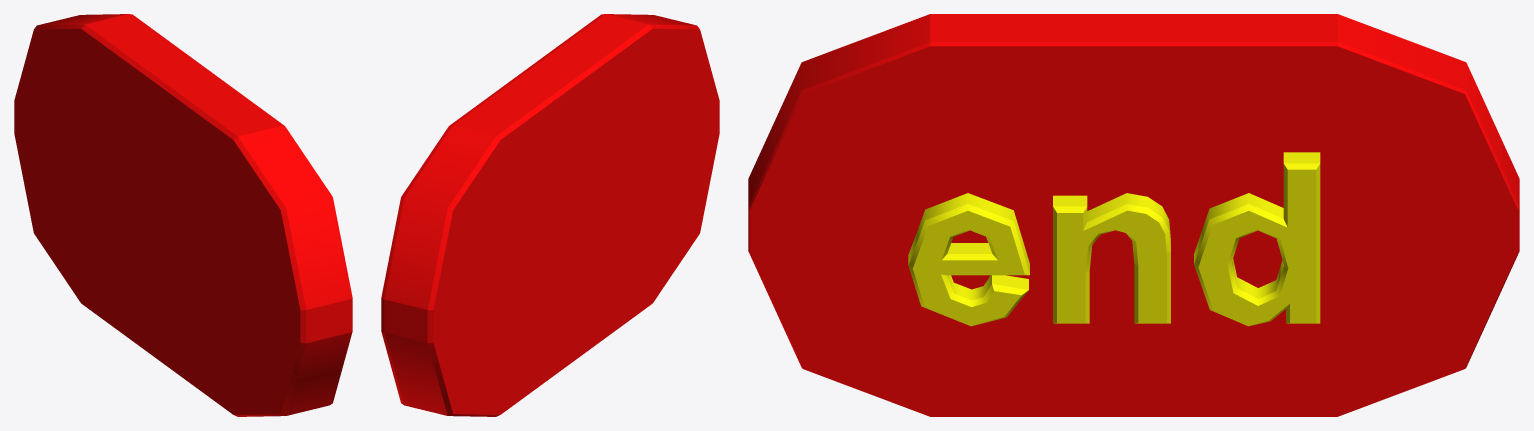
The model's file is end.FBX.
The picture shows the model from 3 angles, left to right: view 1: azimuth 30°, elevation 25°; view 2: azimuth 150°, elevation 25°; view 3: azimuth 270°, elevation 25°; orthographic projection. The views are drawn at different scales.
Visible parts, largest first — view 1: end; view 2: end; view 3: end.
Part boxes in pixels (x1,y1,x2,y2): end: (14, 14, 352, 416); end: (381, 14, 719, 416); end: (748, 14, 1519, 416).
Bounding box in the file's own units: 103 × 381 × 712.
